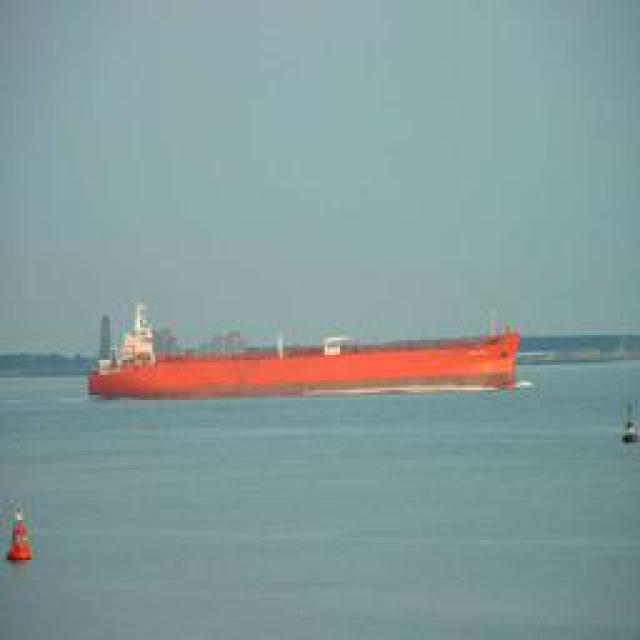Ship: (82, 319, 520, 402)
